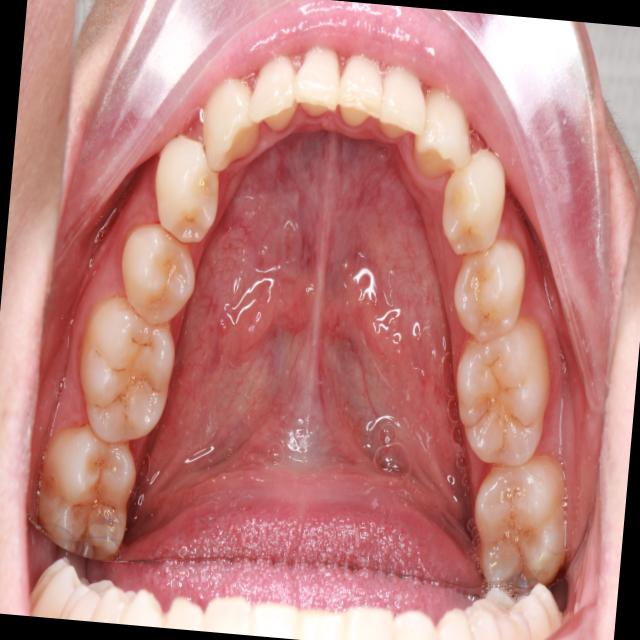tooth: (439, 307, 561, 487), (65, 290, 190, 460), (457, 443, 579, 599), (27, 418, 146, 564), (113, 220, 213, 332), (405, 68, 484, 206), (432, 137, 513, 268), (448, 234, 532, 355), (147, 129, 229, 251), (188, 75, 277, 179), (371, 54, 435, 171), (326, 41, 391, 143), (244, 45, 313, 141), (287, 35, 353, 135)
